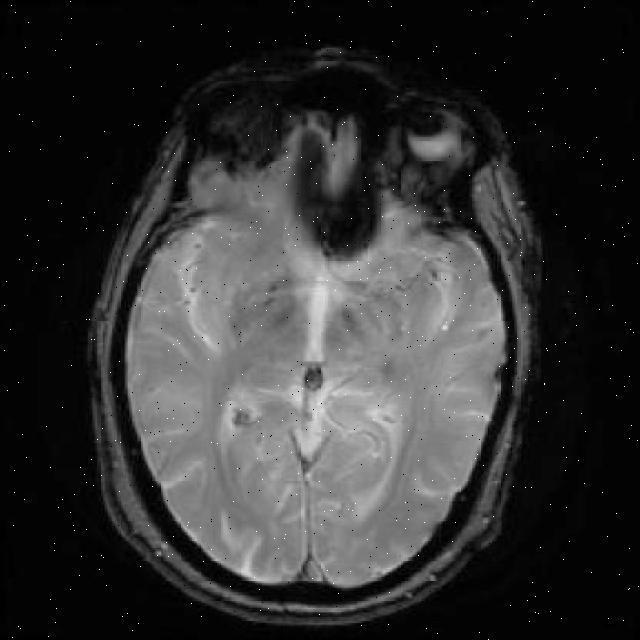LMCI: (212, 344, 276, 464)
